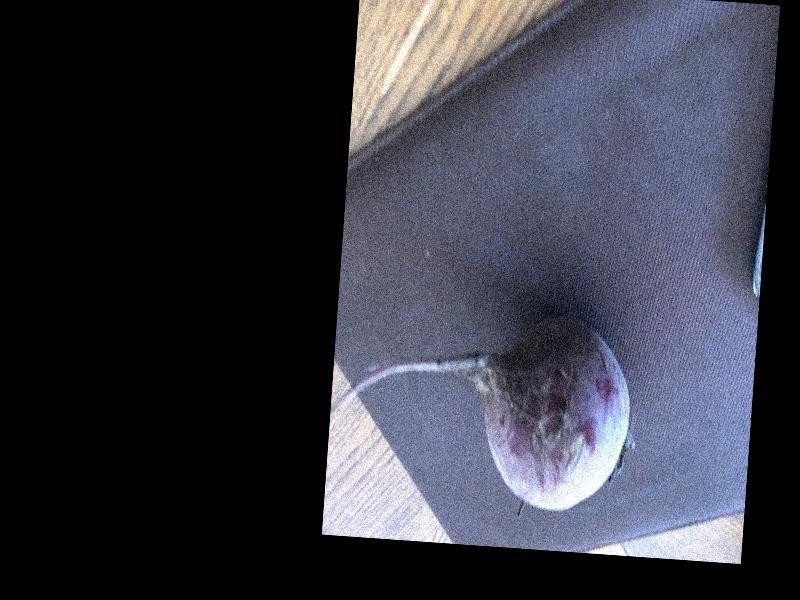Beet: (327, 303, 635, 514)
